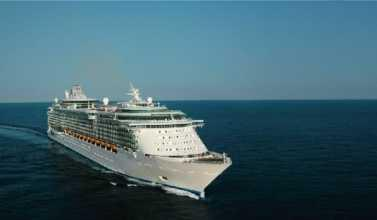youlun: (39, 77, 233, 192)
